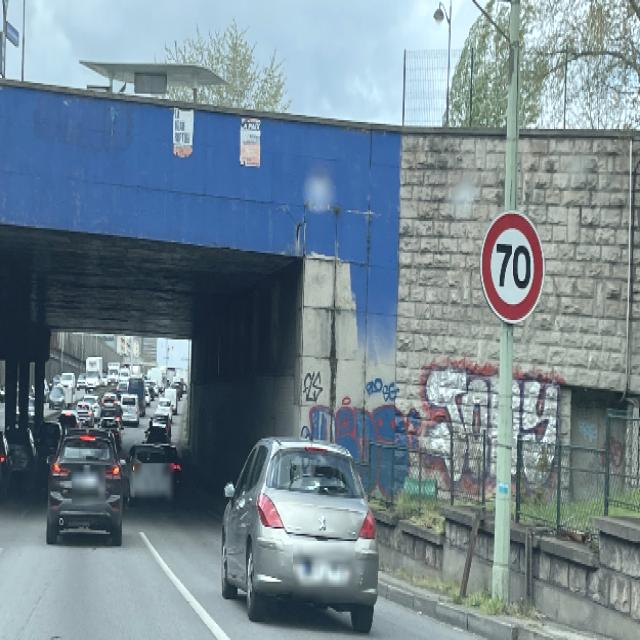speed_70: (479, 207, 547, 324)
